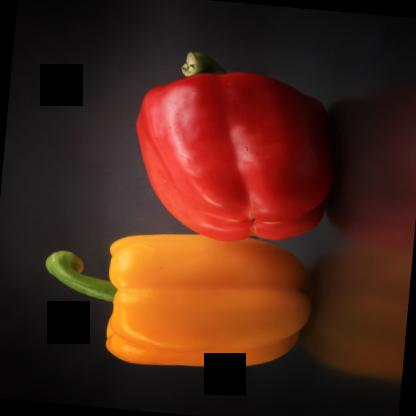-: (38, 214, 322, 380)
bell pepper: (126, 55, 342, 248)
